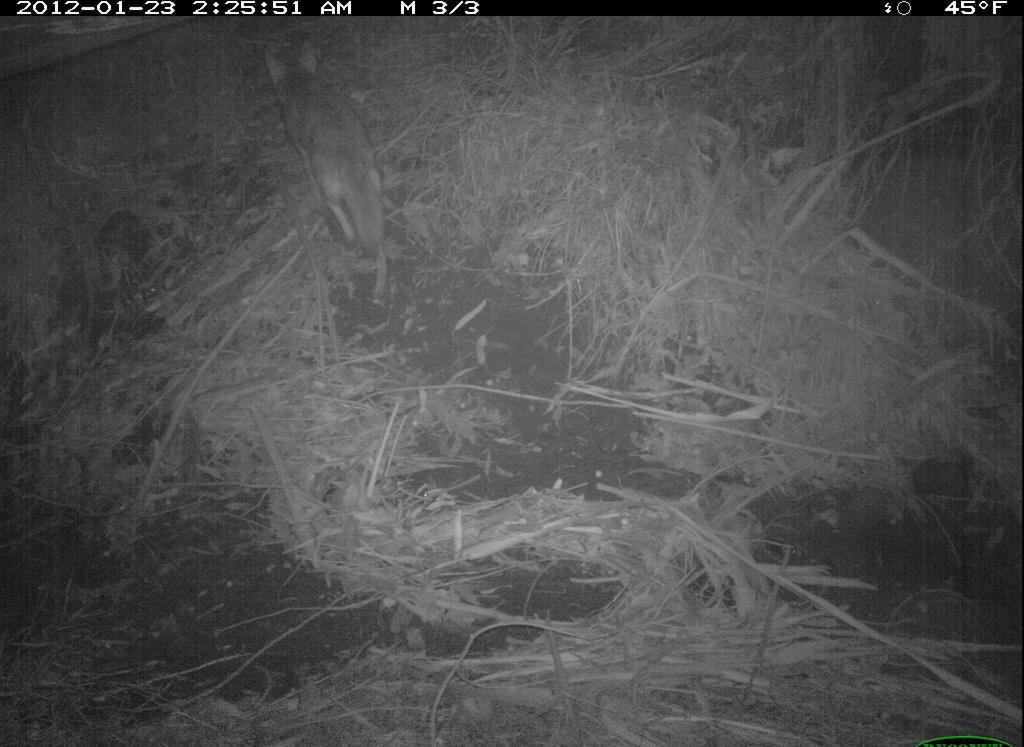coyote: (253, 33, 403, 321)
